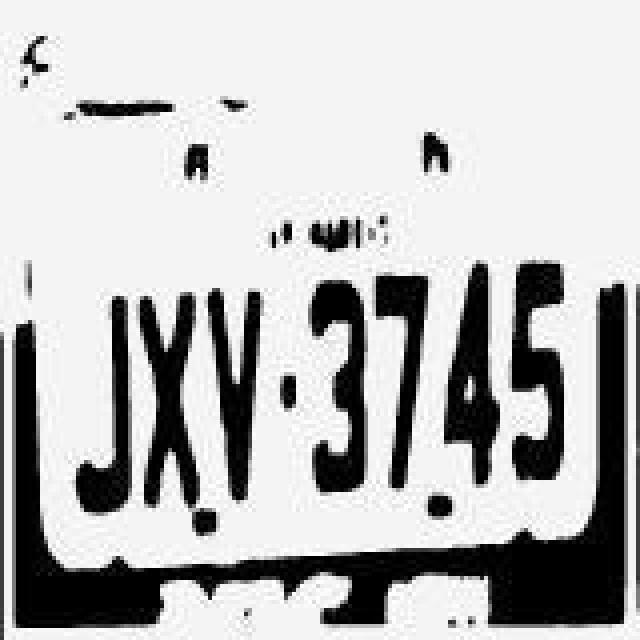3: (300, 274, 372, 494)
4: (438, 264, 506, 488)
5: (506, 238, 582, 490)
7: (368, 266, 432, 486)
J: (64, 284, 136, 516)
V: (206, 274, 274, 502)
X: (134, 286, 202, 514)
